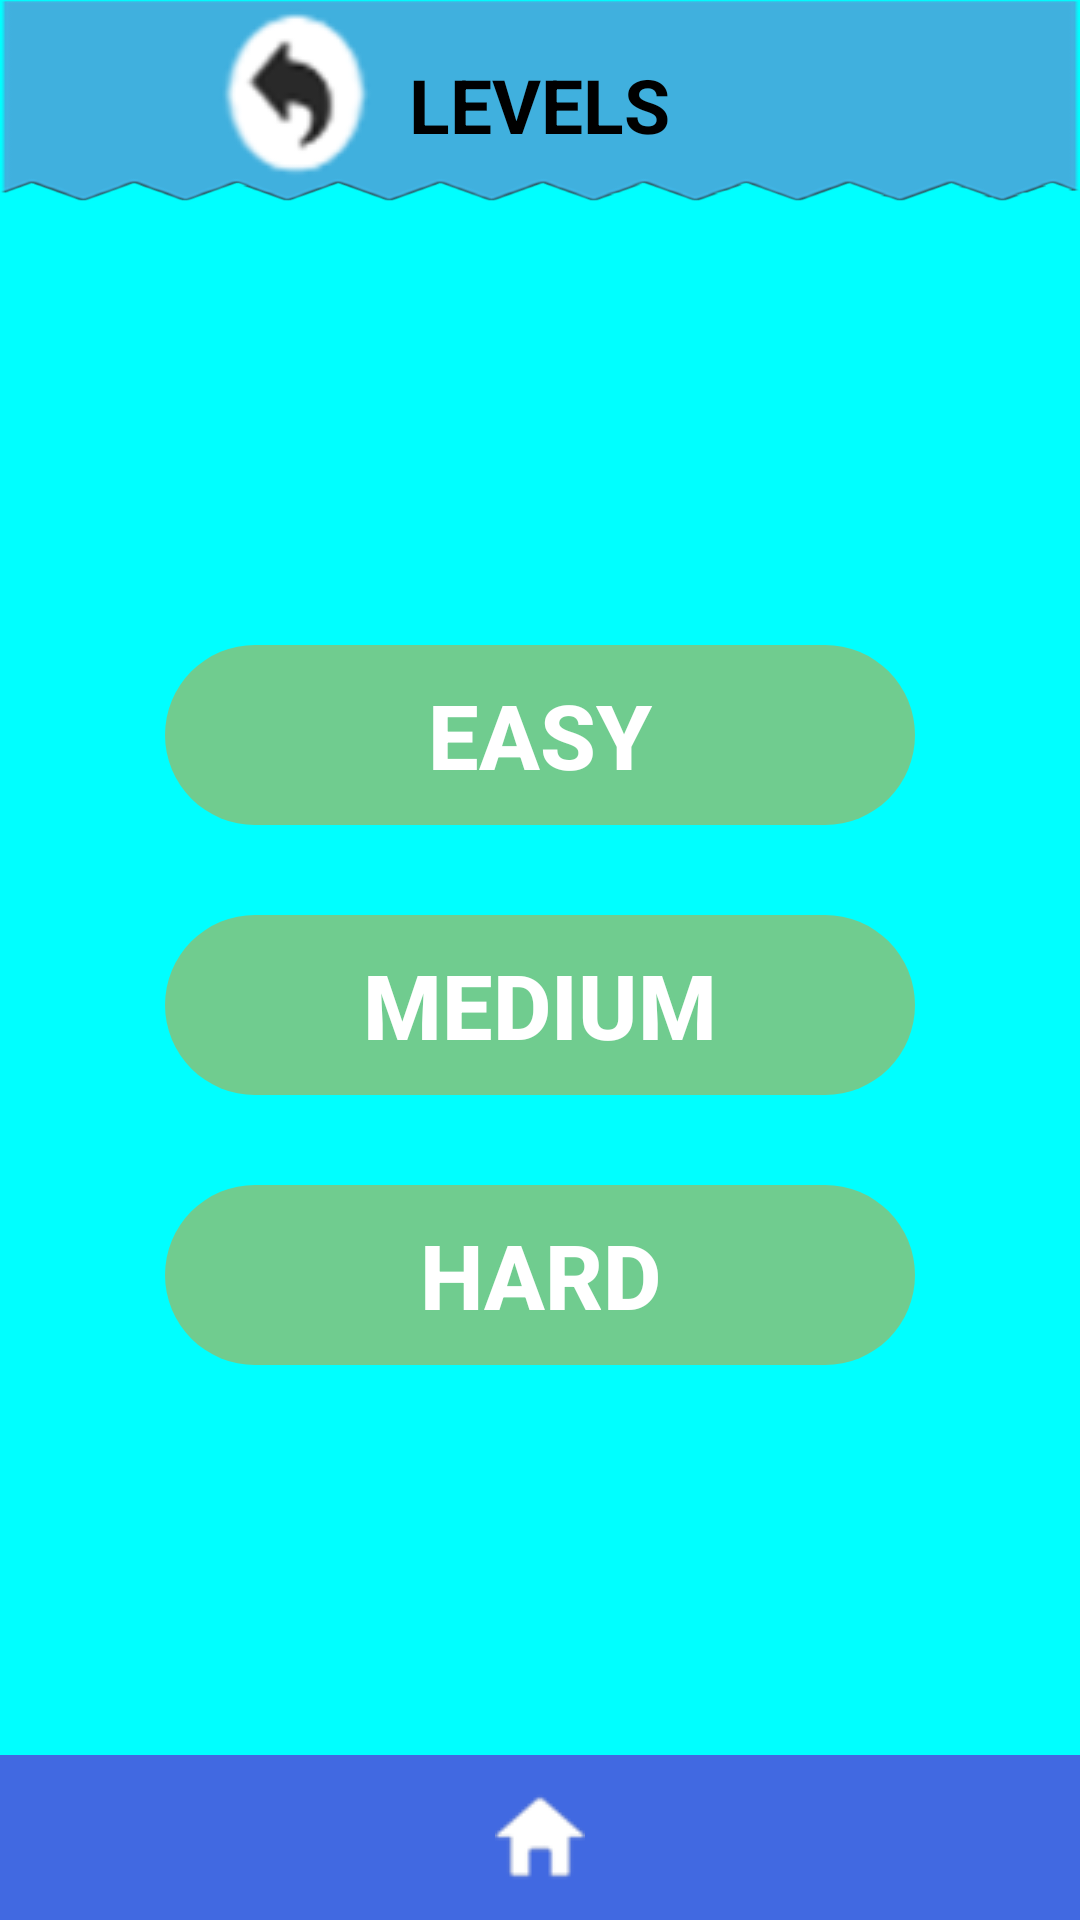

Icon bounding boxes for this 1080px×1920px phone screenshot, format (x1, y1, x2, y2):
homy: (495, 1797, 585, 1877)
